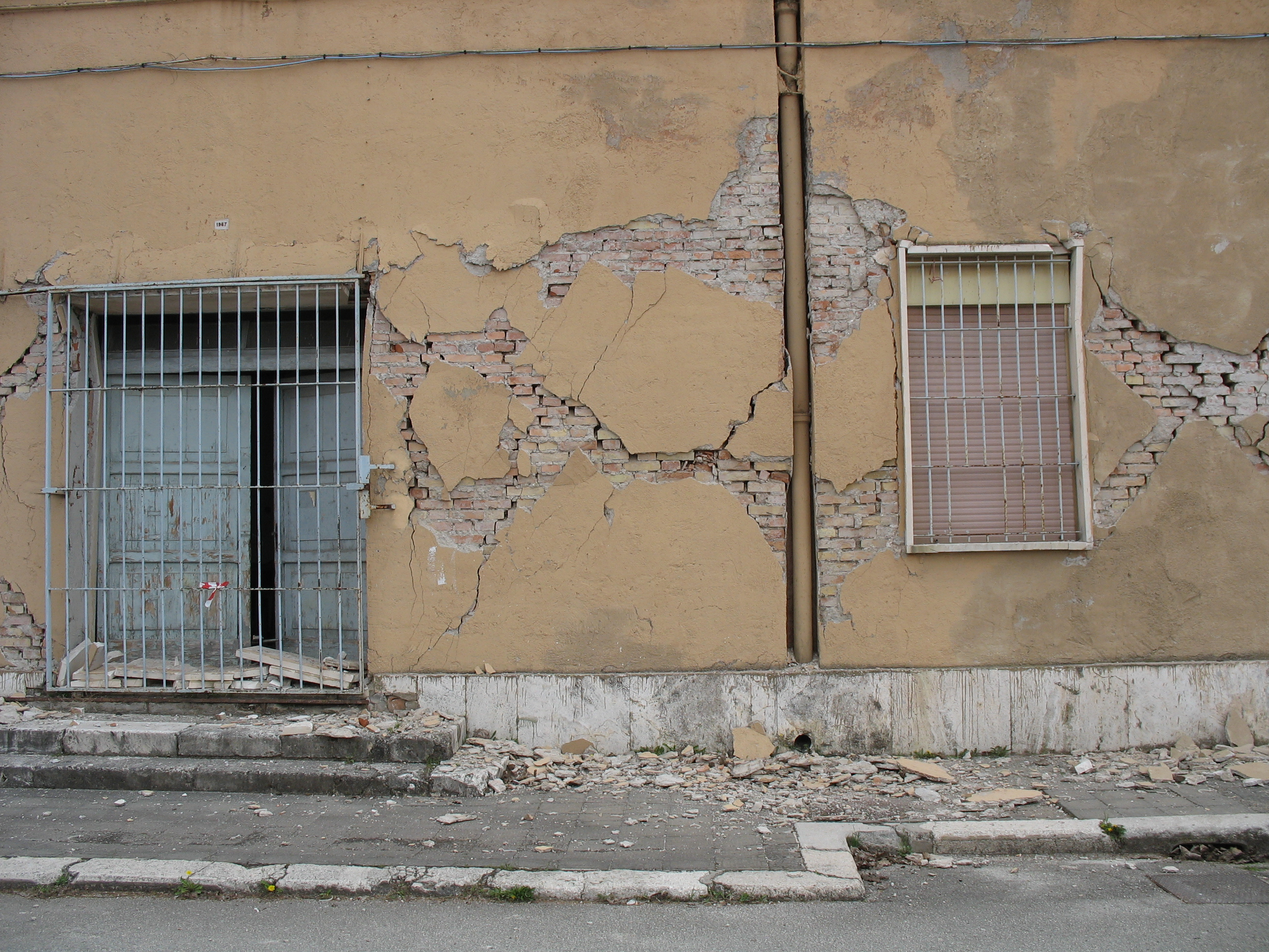Crack: (380, 147, 899, 645), (1063, 231, 1237, 556), (1, 281, 60, 678)
Debris: (216, 677, 1267, 834), (894, 845, 989, 874), (236, 798, 278, 821), (593, 833, 638, 853), (529, 840, 560, 855)
Spalling: (565, 98, 912, 333), (686, 373, 933, 639), (380, 315, 612, 588), (1078, 282, 1265, 448)
